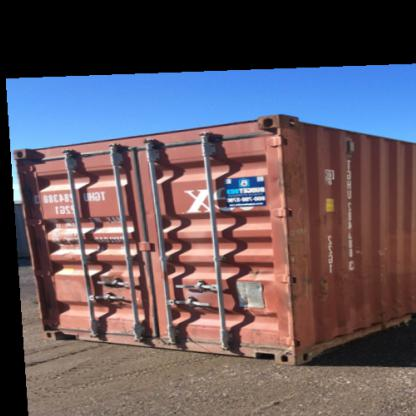Damage: (276, 150, 306, 198), (278, 222, 308, 260), (280, 268, 308, 308), (248, 340, 288, 360), (308, 267, 334, 297), (272, 128, 300, 146), (373, 261, 391, 285), (376, 297, 394, 313), (366, 244, 388, 257), (351, 240, 365, 260)
